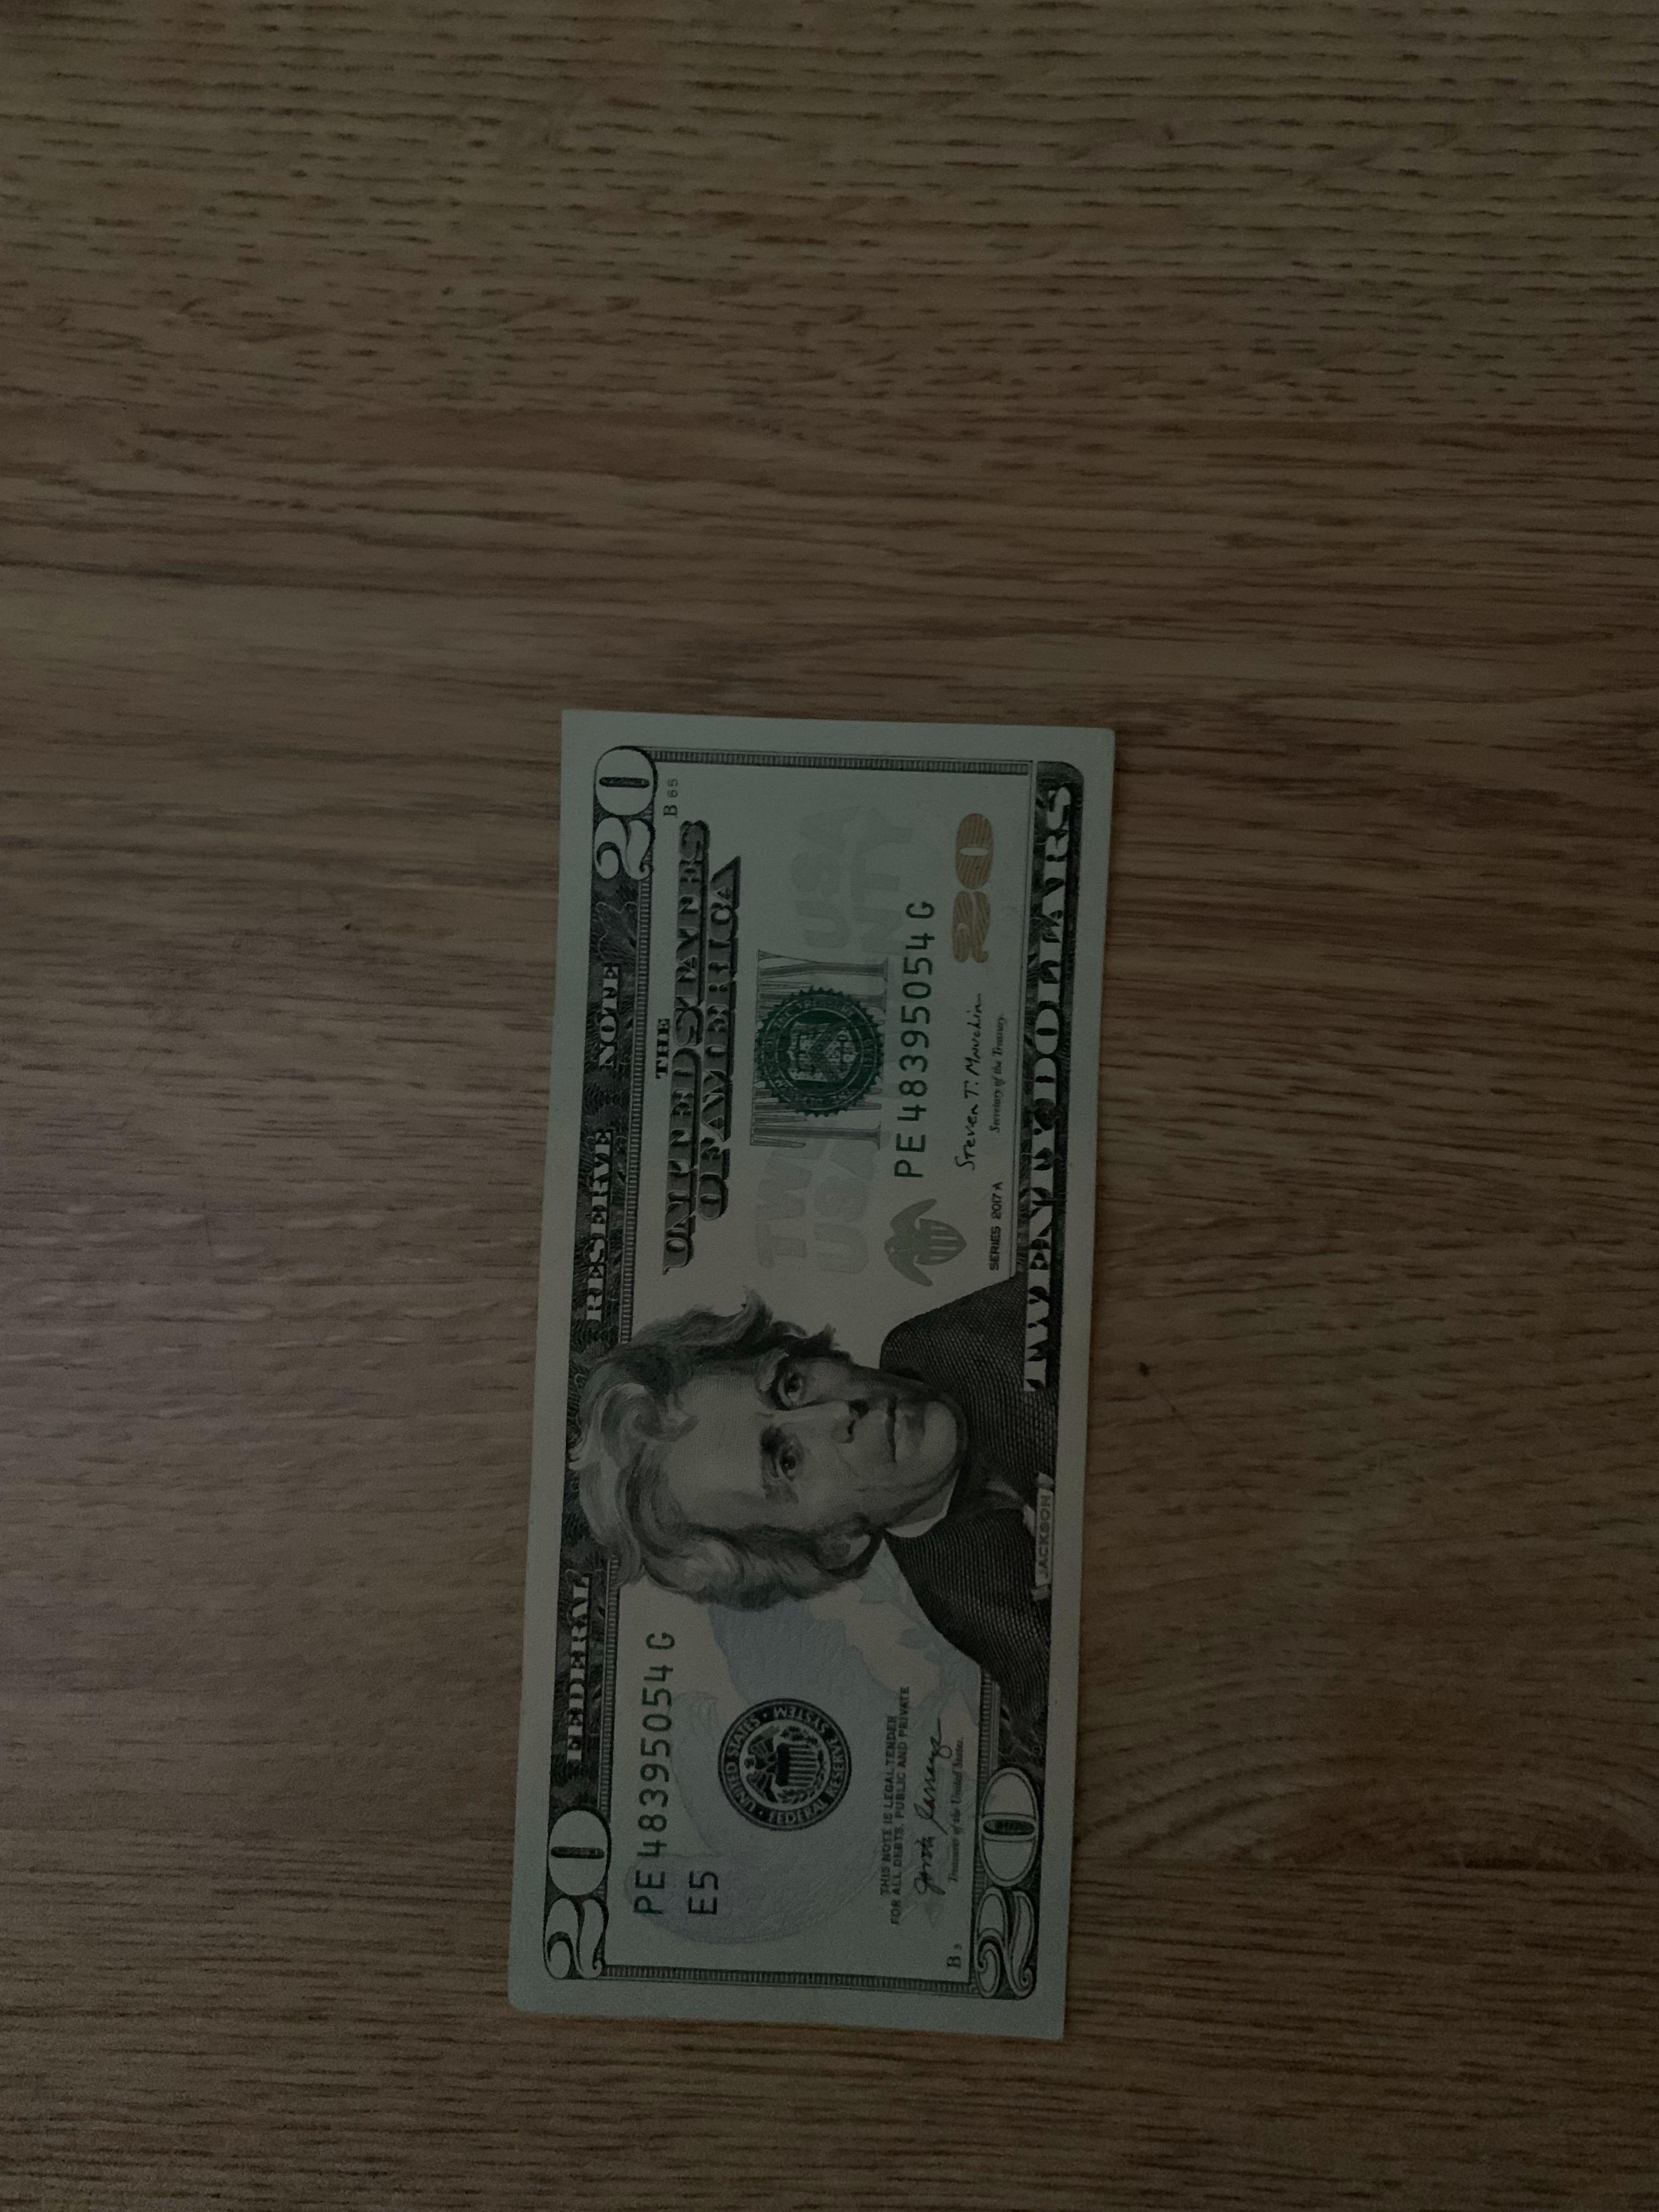TwentyBill: (498, 712, 1127, 2043)
